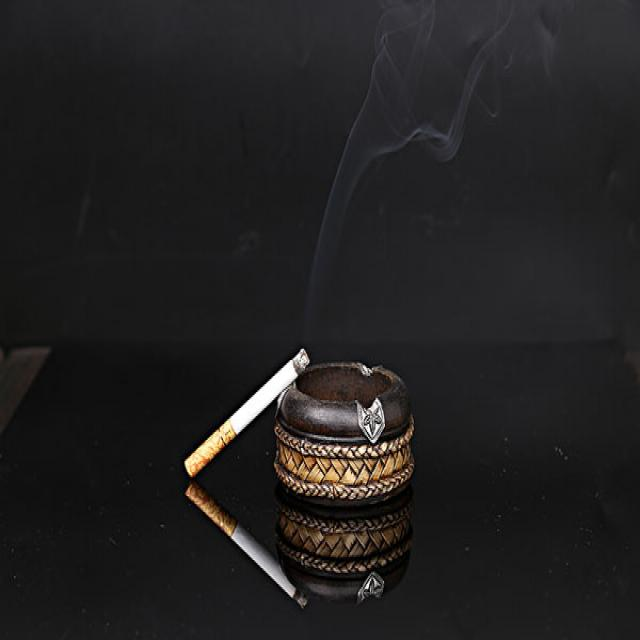smoking: (186, 346, 307, 478), (185, 482, 304, 603)
